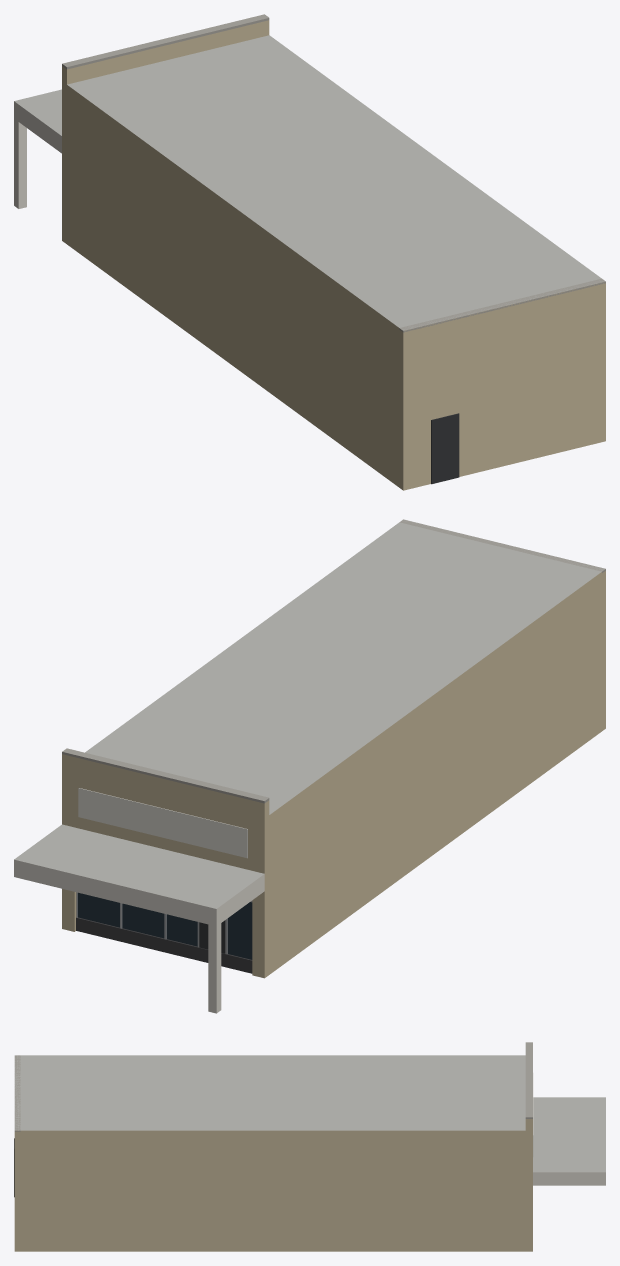
The model's file is strip_mall_bay_7p3_b.glb.
The picture shows the model from 3 angles, top to bottom: view 1: azimuth 30°, elevation 25°; view 2: azimuth 150°, elevation 25°; view 3: azimuth 270°, elevation 25°; orthographic projection. The views are drawn at different scales.
Visible parts, largest first — view 1: strip_mall_bay_7p3_b-col; view 2: strip_mall_bay_7p3_b-col; view 3: strip_mall_bay_7p3_b-col.
Boxes of the visible parts, bbox=[...] form: strip_mall_bay_7p3_b-col: bbox=[14, 14, 605, 490]; strip_mall_bay_7p3_b-col: bbox=[14, 519, 605, 1013]; strip_mall_bay_7p3_b-col: bbox=[14, 1042, 605, 1251].
Bounding box in the file's own units: 7.3 × 6.1 × 24.33.
